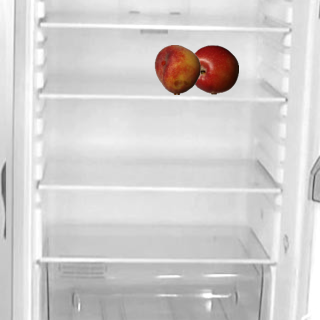Apple Braeburn: (188, 44, 238, 94)
Peach: (152, 44, 202, 94)
